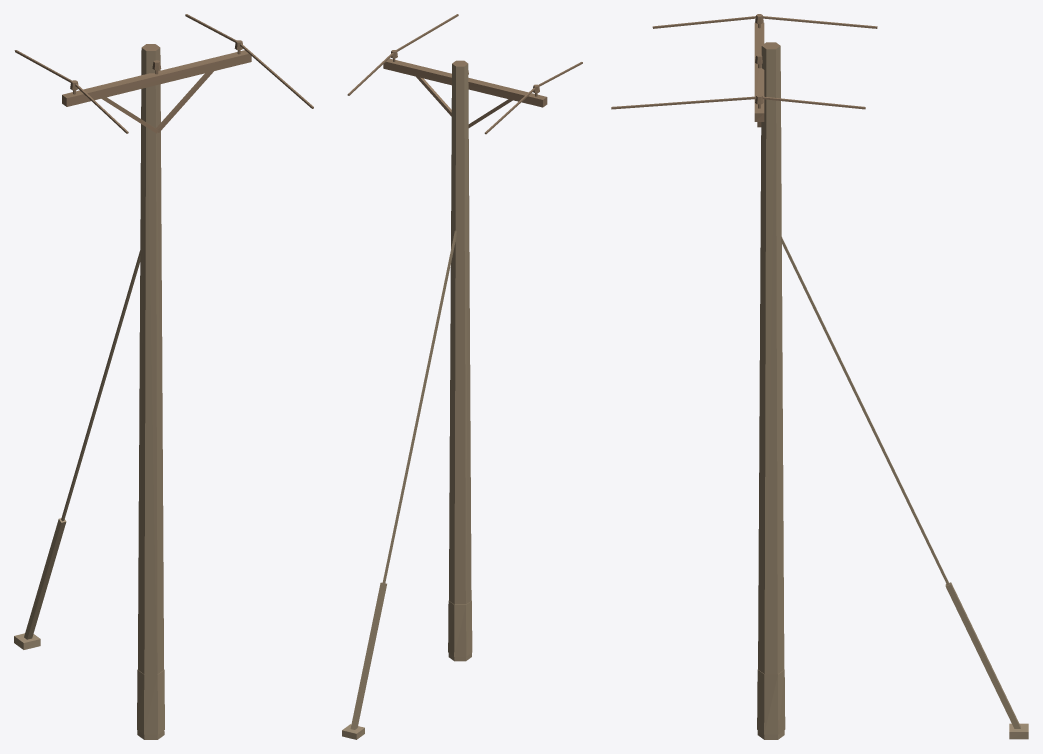
Rendered from electric-pole-00.glb.
3 views of the same model, side by side, from view 1: azimuth 30°, elevation 25°; view 2: azimuth 150°, elevation 25°; view 3: azimuth 270°, elevation 25° (orthographic). The views are drawn at different scales.
Visible parts, largest first — view 1: electric_pole_00; view 2: electric_pole_00; view 3: electric_pole_00.
Part boxes in pixels (box(x1,y1,x2,y2)): electric_pole_00: box(14, 14, 313, 739); electric_pole_00: box(342, 14, 582, 739); electric_pole_00: box(611, 14, 1028, 739).
Size of the model in its own units: 2.19 by 7.78 by 4.27.
